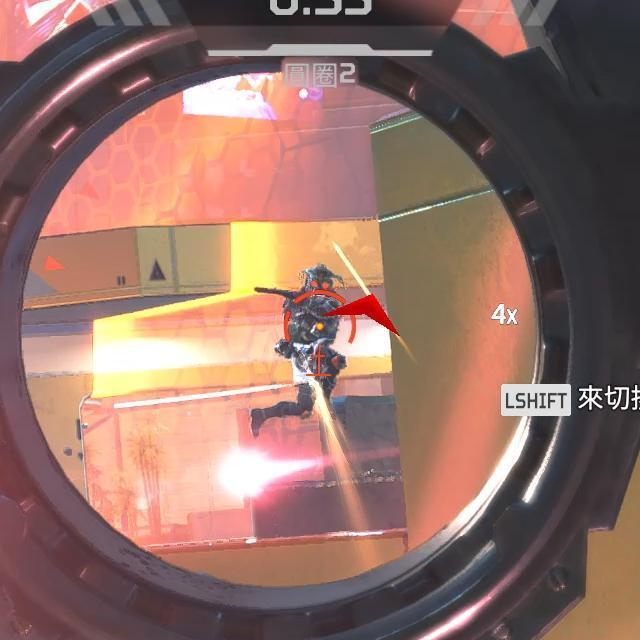avatar: (272, 261, 349, 422)
